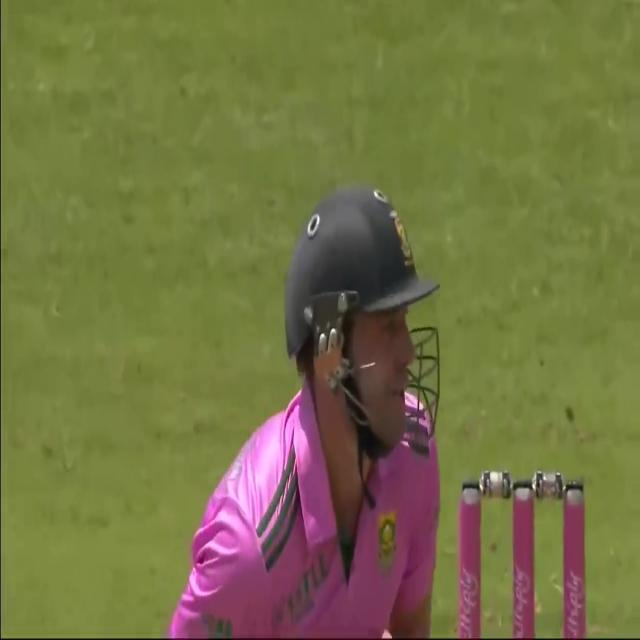Ball: (166, 181, 463, 635)
